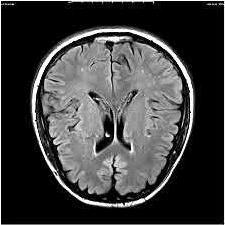Normal_Brain: (28, 16, 225, 225)
